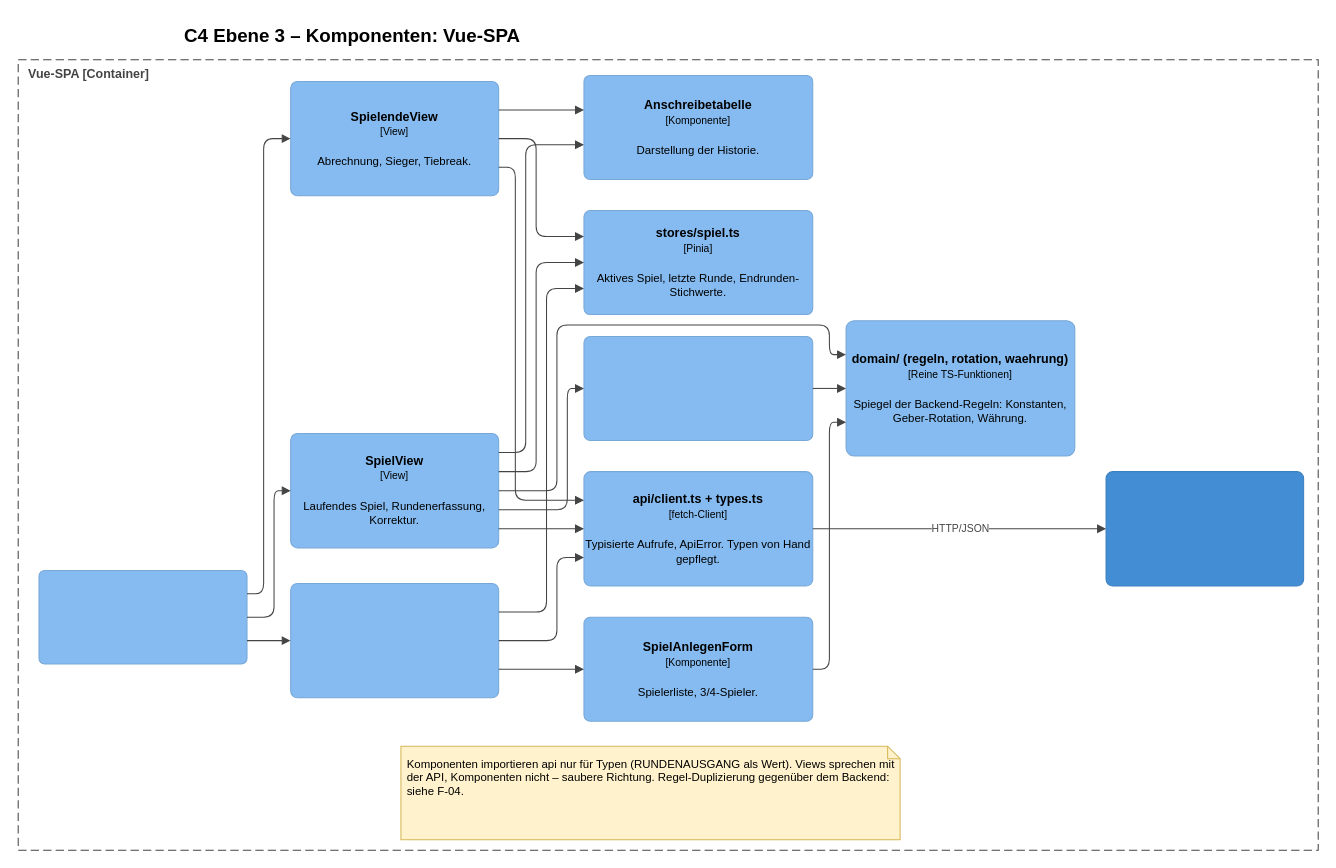
This 1336x868 diagram has some shape labels left out. The shapes that lost their labels are listed below. From the top down, each one's centre as x and y in pixels, then its label:
At point 698,387: "RundeForm (570 Z.) [Komponente] Rundenformular, Validierung.".
At point 1204,528: "Django-API [Container]".
At point 142,616: "router/index.ts [Vue Router] Routen Start, Spiel, Spielende, 404.".
At point 394,640: "StartView [View] Spiel anlegen.".
